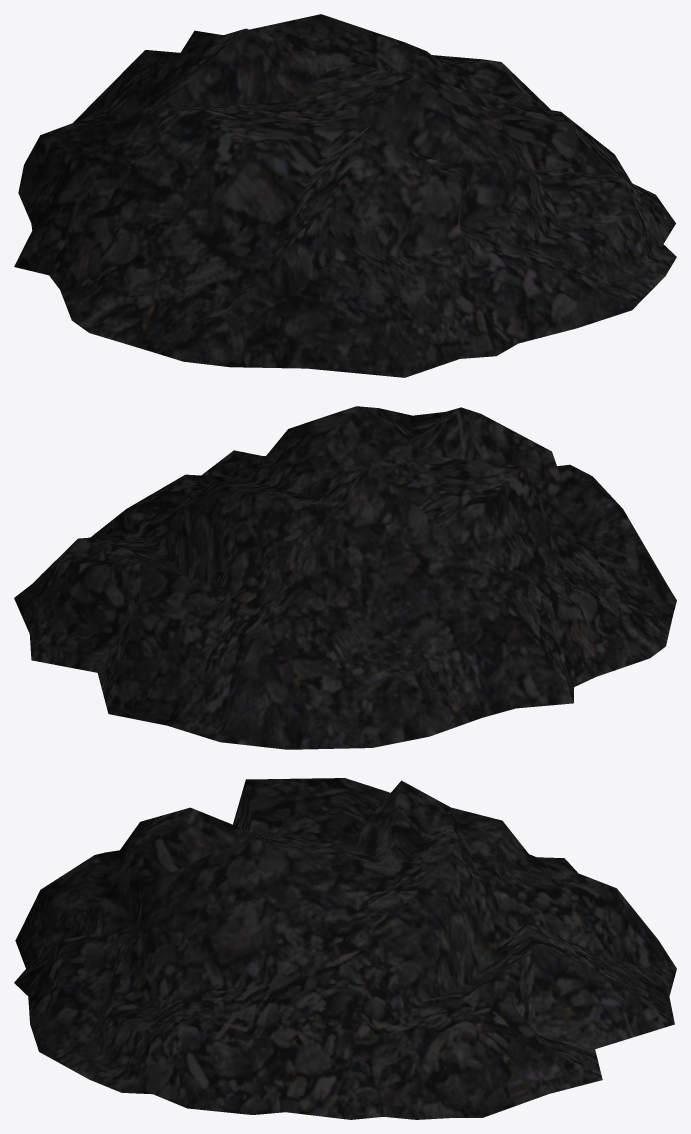
File: coal_pile02.dae
The picture shows the model from 3 angles, top to bottom: view 1: azimuth 30°, elevation 25°; view 2: azimuth 150°, elevation 25°; view 3: azimuth 270°, elevation 25°; orthographic projection. The views are drawn at different scales.
Parts seen in each view (by area): view 1: coal_pile02; view 2: coal_pile02; view 3: coal_pile02.
Part boxes in pixels (x1,y1,x2,y2): coal_pile02: (14,14,676,377); coal_pile02: (14,406,676,749); coal_pile02: (14,778,676,1119).
Size of the model in its own units: 1.36 by 0.4276 by 1.42.
